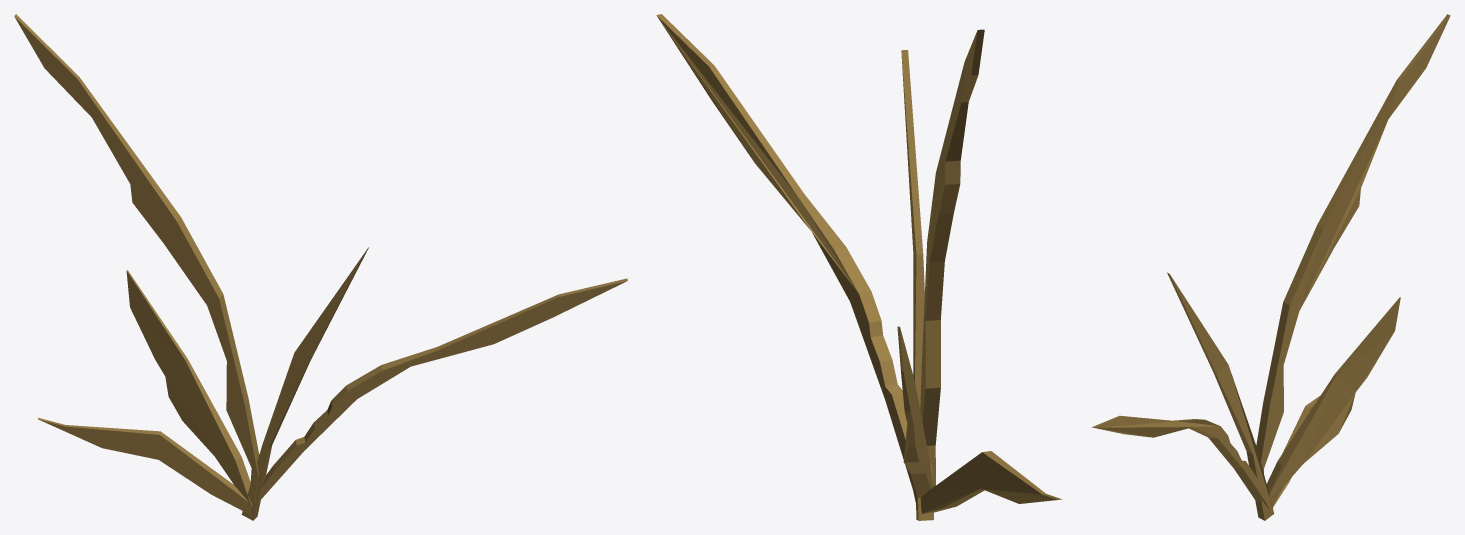
Rendered from Grass_1.fbx.
The picture shows the model from 3 angles, left to right: view 1: azimuth 30°, elevation 25°; view 2: azimuth 150°, elevation 25°; view 3: azimuth 270°, elevation 25°; orthographic projection. The views are drawn at different scales.
Visible parts, largest first — view 1: Savanna.023_0; view 2: Savanna.023_0; view 3: Savanna.023_0.
Part boxes in pixels (left/top/right/bottom): Savanna.023_0: left=14, top=14, right=627, bottom=520; Savanna.023_0: left=656, top=14, right=1061, bottom=520; Savanna.023_0: left=1092, top=14, right=1450, bottom=520.
Bounding box in the file's own units: 160 × 160 × 119.
